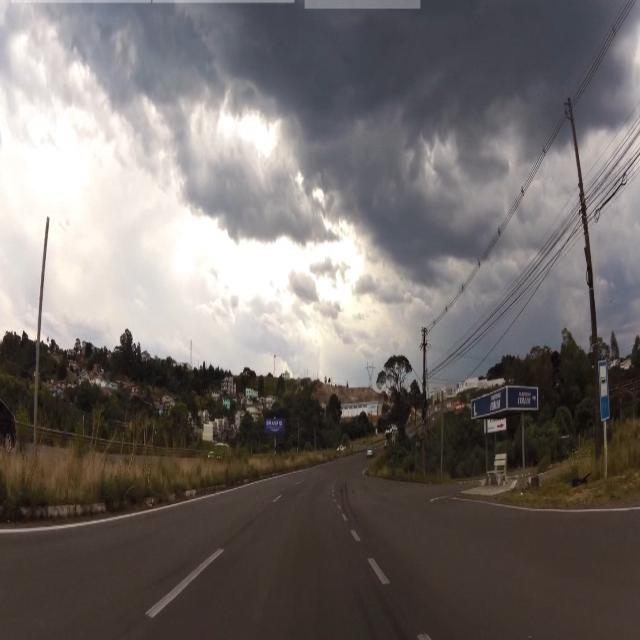S-14: (596, 363, 612, 419)
